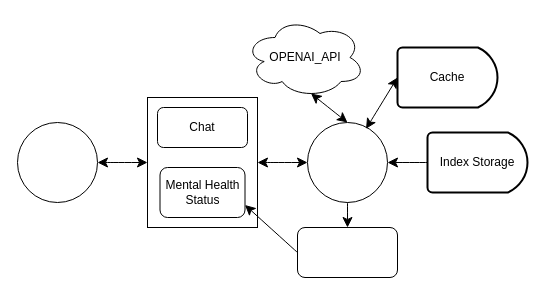
Image size: 546x295. Some labels were removed from this diagram. Each missing label, with the centre of its shape:
"Agent" belongs at (x=347, y=162).
"Score" belongs at (x=347, y=252).
"User" belongs at (x=57, y=162).
